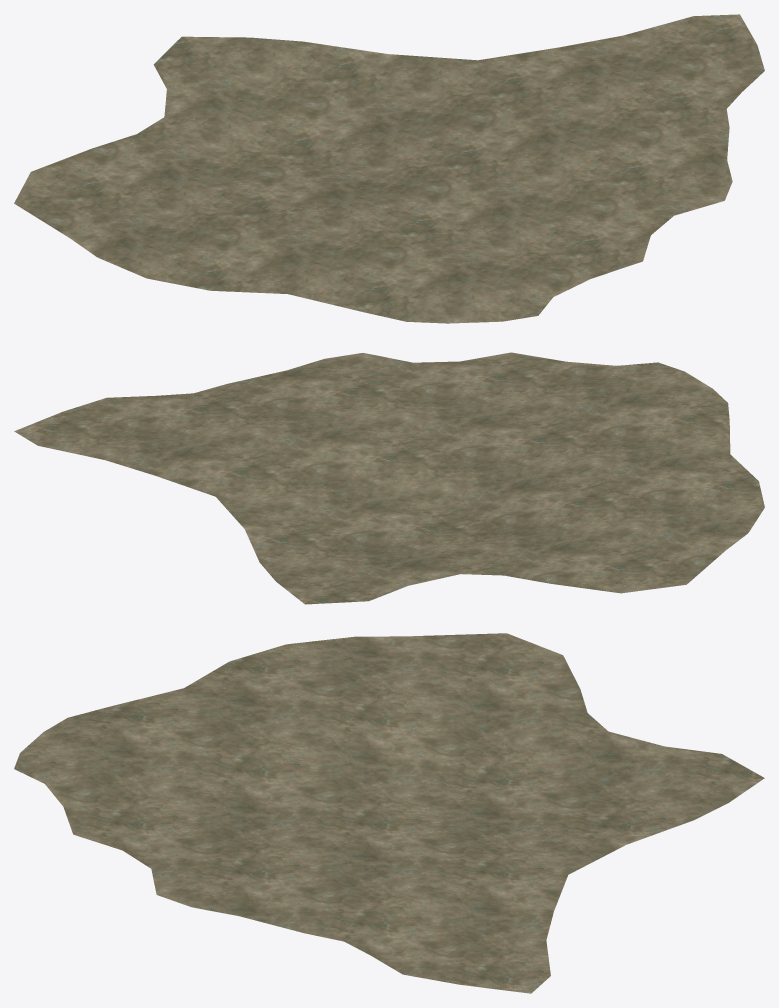
Rendered from EKH_CAVERNS_PS_CA_LINE42.fbx.
3 views of the same model, one above another, from view 1: azimuth 30°, elevation 25°; view 2: azimuth 150°, elevation 25°; view 3: azimuth 270°, elevation 25° (orthographic). The views are drawn at different scales.
Visible parts, largest first — view 1: EKH_CAVERNS_PS_CA_LINE42; view 2: EKH_CAVERNS_PS_CA_LINE42; view 3: EKH_CAVERNS_PS_CA_LINE42.
Part boxes in pixels (x1,y1,x2,y2): EKH_CAVERNS_PS_CA_LINE42: (14, 14, 764, 323); EKH_CAVERNS_PS_CA_LINE42: (14, 352, 764, 604); EKH_CAVERNS_PS_CA_LINE42: (14, 633, 764, 993).
Size of the model in its own units: 222771 by 4487 by 196107.
1 material, 1 textured.
